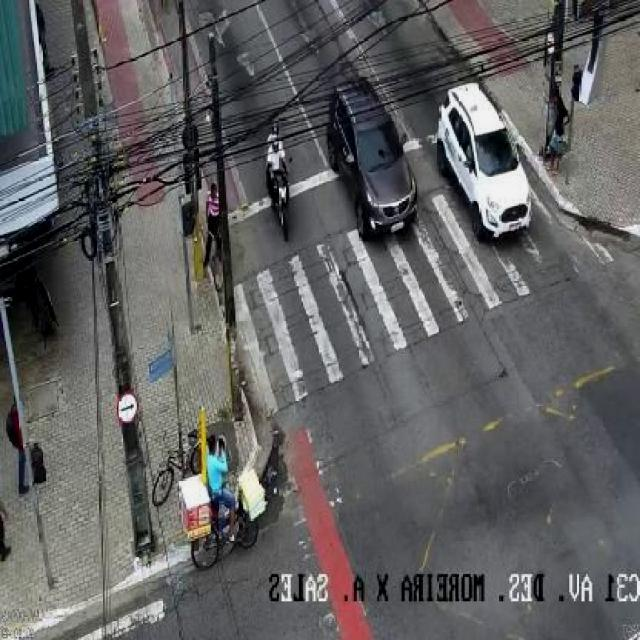Car: (440, 82, 534, 245), (327, 80, 422, 241)
Cycle: (175, 474, 262, 570), (151, 431, 217, 506), (266, 162, 292, 244)
